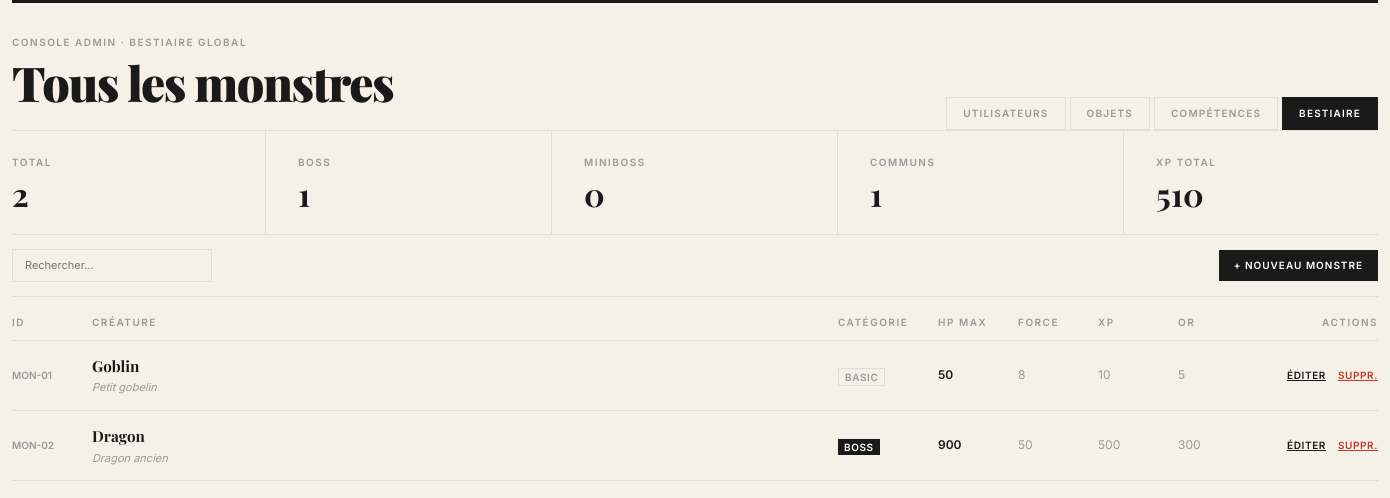
AdminBestiaireView › affiche 'Aucun résultat' quand le filtre ne matche rien
In the field with placeholder "Rechercher...": {"x": 112, "y": 265} [12,249,212,282], type "ZZZZZZ"
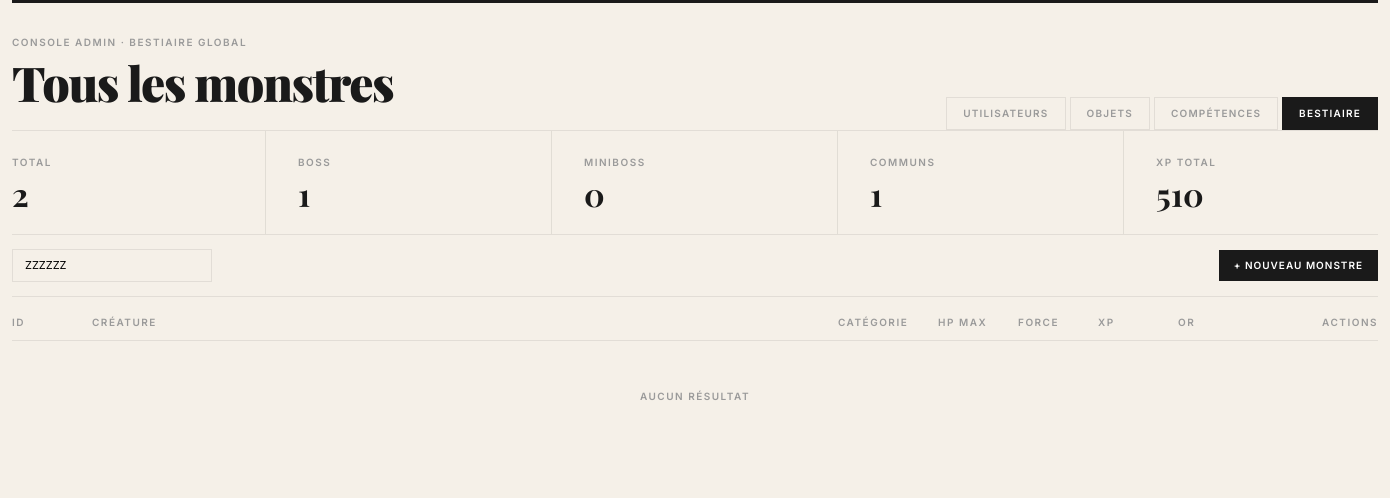
Expected: the text "Aucun résultat" is shown, [640,390,750,402]
